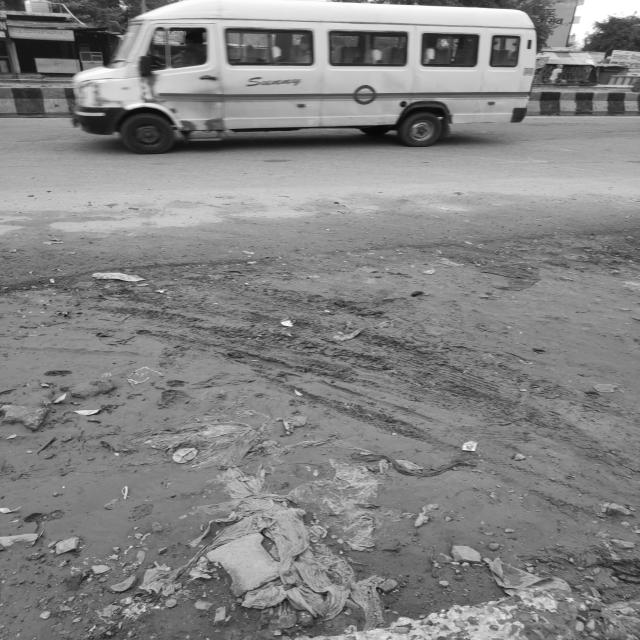Traveller: (72, 0, 537, 152)
